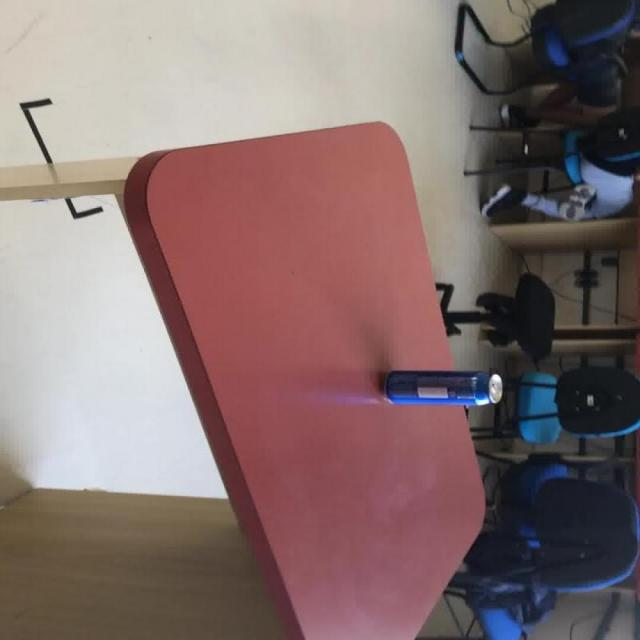Tonic: (382, 369, 502, 406)
